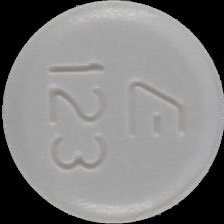0185-0123: (0, 0, 224, 224)
